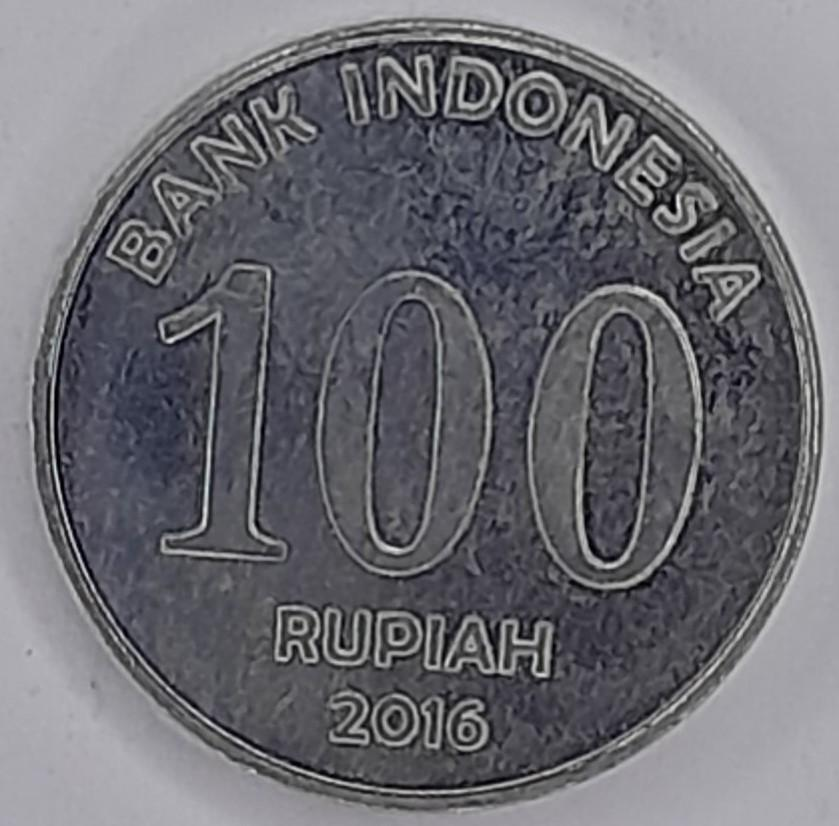coin_100_e2016: (25, 12, 828, 813)
